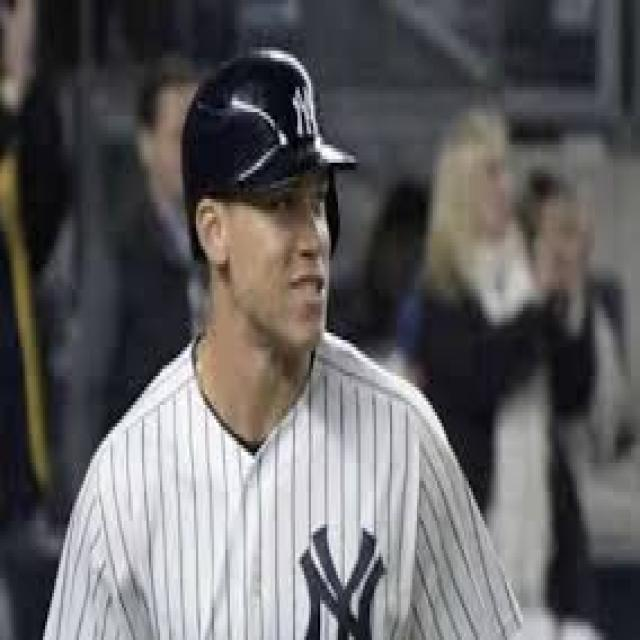3_gorra: (177, 44, 359, 206)
